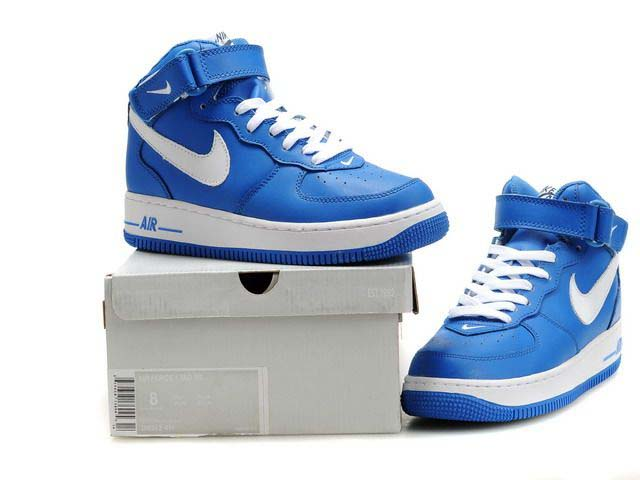Air Force One Blue: (118, 32, 456, 264), (397, 175, 635, 429)
